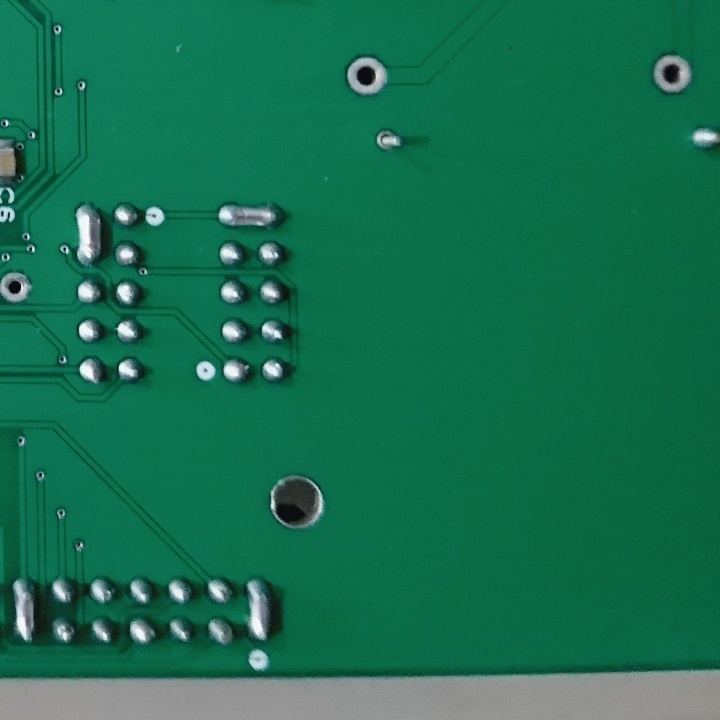F: (648, 49, 695, 100), (342, 52, 391, 100), (1, 268, 36, 307), (372, 124, 403, 155)
P: (241, 572, 281, 647), (70, 198, 107, 268), (212, 198, 288, 232), (10, 575, 43, 649)
